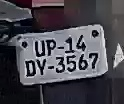1: (64, 34, 74, 54)
3: (55, 54, 67, 74)
4: (75, 34, 87, 52)
5: (66, 54, 77, 74)
6: (77, 53, 89, 72)
7: (88, 49, 101, 72)
D: (25, 59, 36, 78)
P: (45, 37, 58, 59)
U: (33, 39, 47, 57)
Y: (36, 56, 46, 74)
